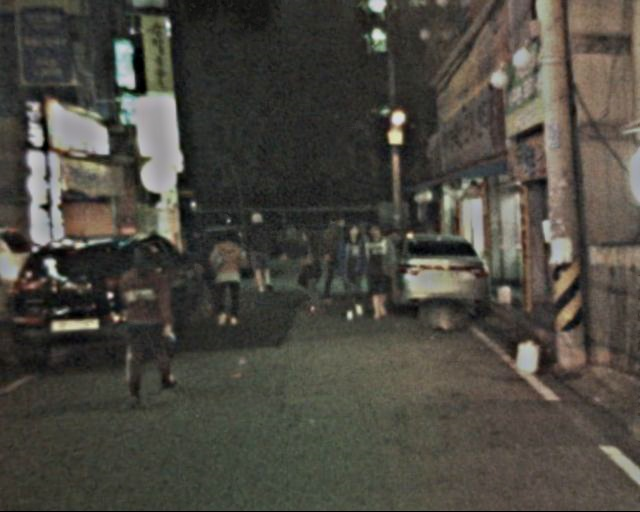person: (115, 244, 176, 395), (333, 226, 375, 319), (357, 226, 399, 319), (206, 230, 248, 322), (240, 212, 279, 296), (316, 216, 357, 295), (179, 221, 215, 307), (289, 230, 324, 314)
